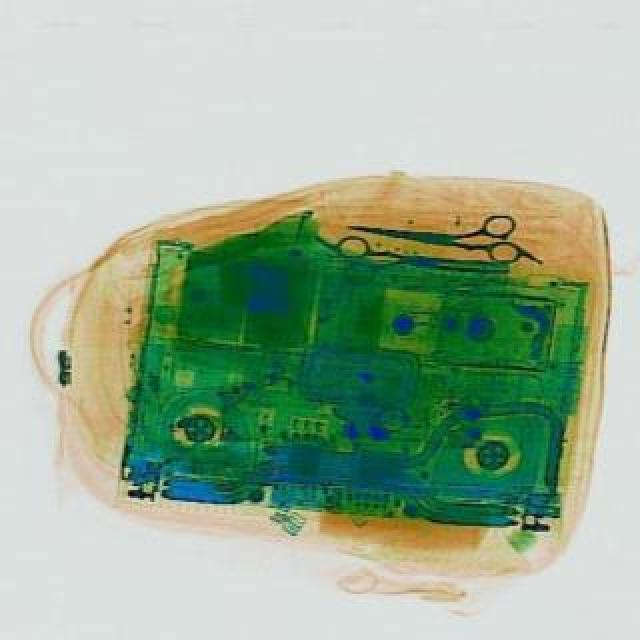pliers: (344, 204, 528, 268), (336, 238, 512, 302)
